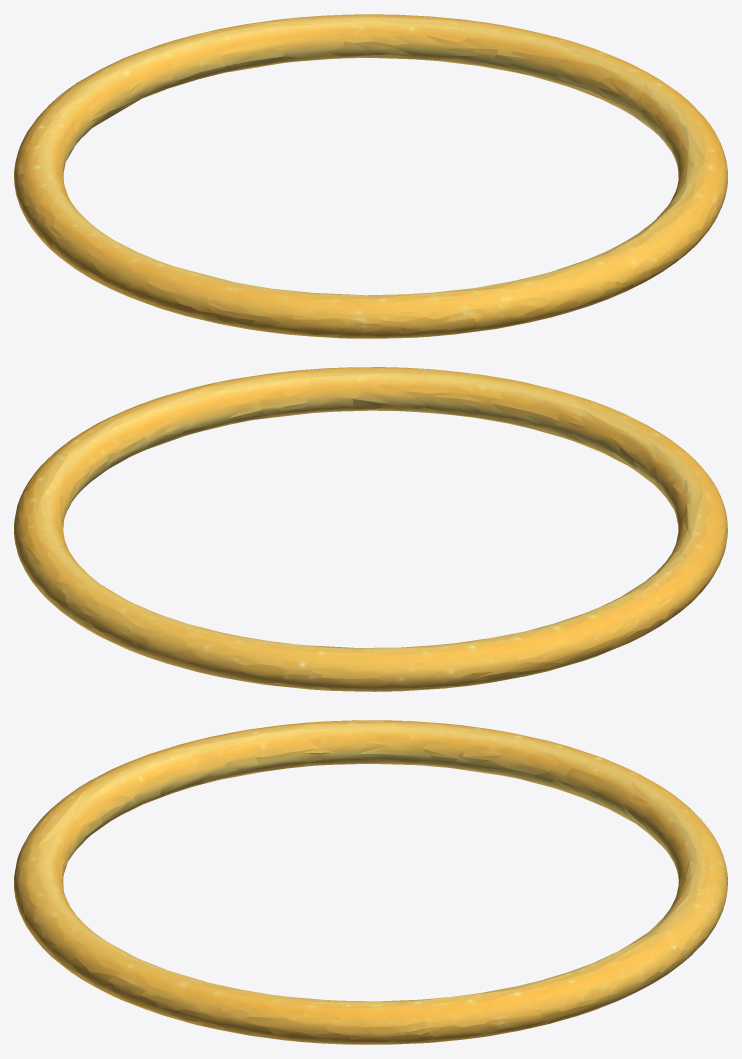
The model's file is acc_halo.glb.
The picture shows the model from 3 angles, top to bottom: view 1: azimuth 30°, elevation 25°; view 2: azimuth 150°, elevation 25°; view 3: azimuth 270°, elevation 25°; orthographic projection.
Visible parts, largest first — view 1: Mesh_0; view 2: Mesh_0; view 3: Mesh_0.
Part boxes in pixels (box(x1,y1,x2,y2)): Mesh_0: box(14, 14, 727, 338); Mesh_0: box(14, 367, 727, 691); Mesh_0: box(14, 720, 727, 1044).
Bounding box in the file's own units: 1.9 × 0.1121 × 1.9.
1 material, 1 textured.
